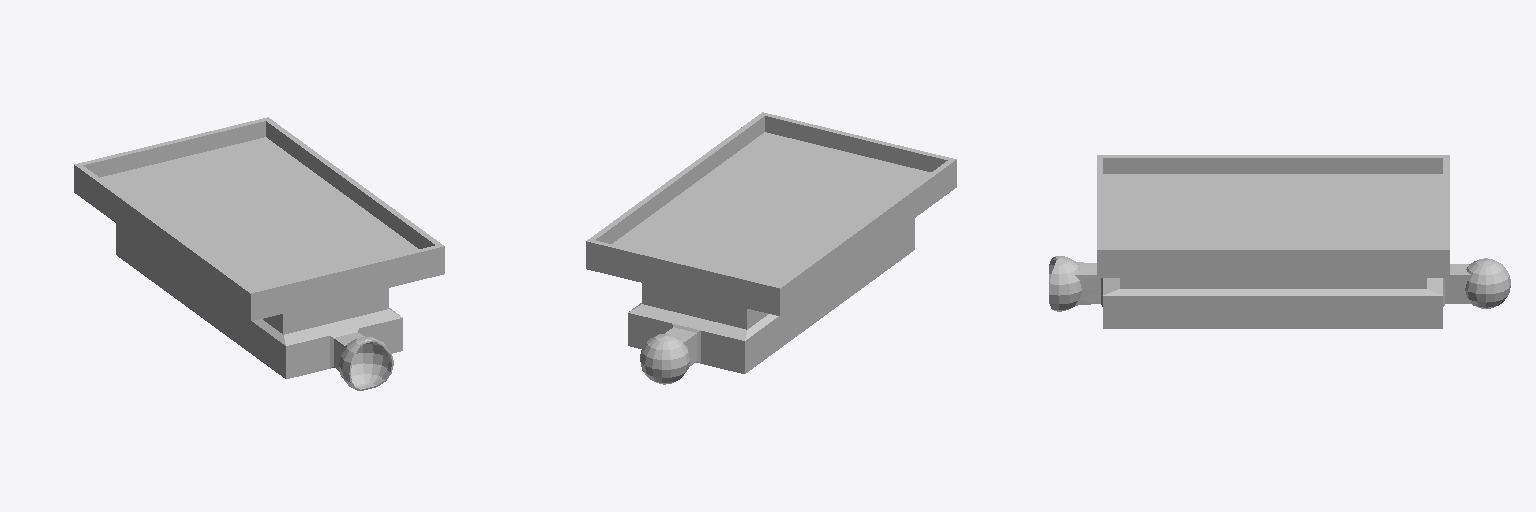
The model's file is train_cart_body.obj.
3 renders of one model, left to right at view 1: azimuth 30°, elevation 25°; view 2: azimuth 150°, elevation 25°; view 3: azimuth 270°, elevation 25°, orthographic.
Parts seen in each view (by area): view 1: Train_Cart_Body; view 2: Train_Cart_Body; view 3: Train_Cart_Body.
Boxes of the visible parts, <box> form: Train_Cart_Body: <box>74,117,444,390</box>; Train_Cart_Body: <box>586,112,956,384</box>; Train_Cart_Body: <box>1049,155,1510,328</box>.
Size of the model in its own units: 0.6584 by 0.3441 by 1.36.